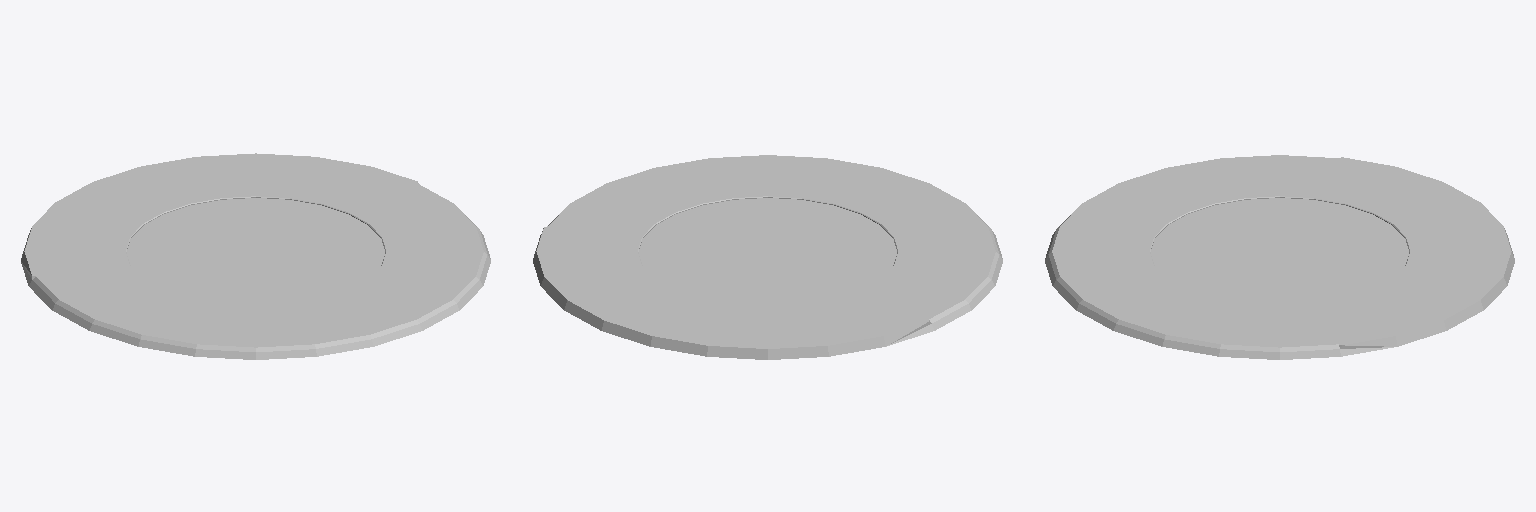
The model's file is Final_stage.obj.
3 renders of one model, left to right at view 1: azimuth 30°, elevation 25°; view 2: azimuth 150°, elevation 25°; view 3: azimuth 270°, elevation 25°, orthographic.
Parts seen in each view (by area): view 1: defaultMaterial.007_defaultMaterial.015; view 2: defaultMaterial.007_defaultMaterial.015; view 3: defaultMaterial.007_defaultMaterial.015.
Boxes of the visible parts, x1,y1,x2,y2 form: defaultMaterial.007_defaultMaterial.015: [21, 153, 490, 359]; defaultMaterial.007_defaultMaterial.015: [533, 155, 1002, 359]; defaultMaterial.007_defaultMaterial.015: [1045, 155, 1514, 359].
Size of the model in its own units: 5.58 by 0.1227 by 5.58.